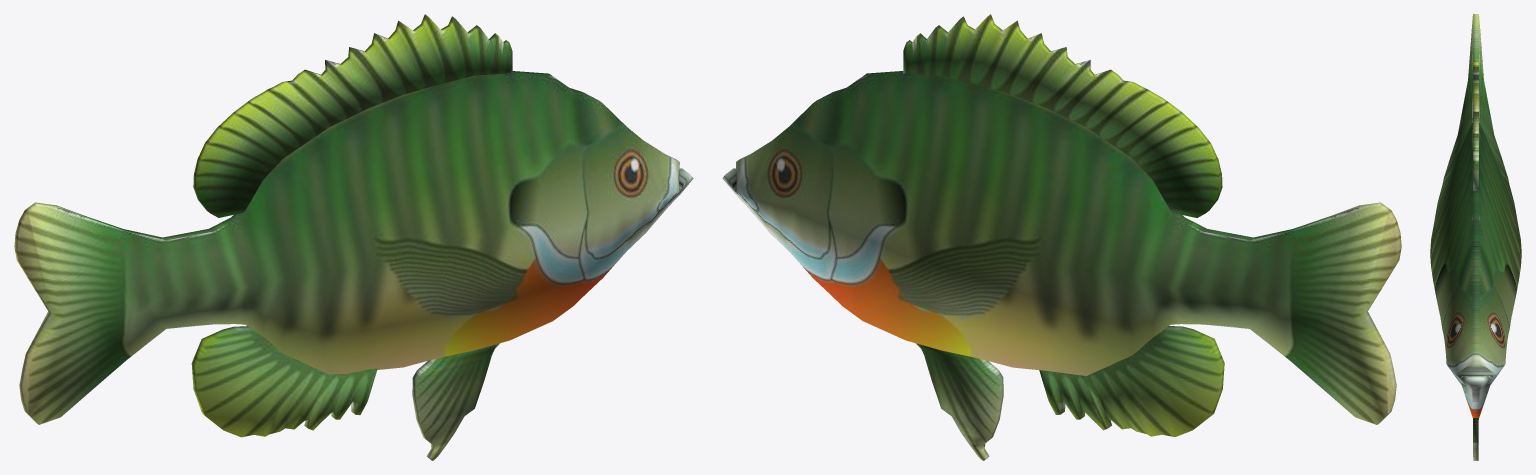
Rendered from bluegill.glb.
The picture shows the model from 3 angles, left to right: view 1: azimuth 30°, elevation 25°; view 2: azimuth 150°, elevation 25°; view 3: azimuth 270°, elevation 25°; orthographic projection. The views are drawn at different scales.
Parts seen in each view (by area): view 1: Bluegill_0; view 2: Bluegill_0; view 3: Bluegill_0.
Part boxes in pixels (<box>): Bluegill_0: <box>14,14,693,460</box>; Bluegill_0: <box>722,14,1401,460</box>; Bluegill_0: <box>1430,14,1521,460</box>.
Bounding box in the file's own units: 1.78 × 1.13 × 0.2557.
Materials: 1 (1 with a texture image).
